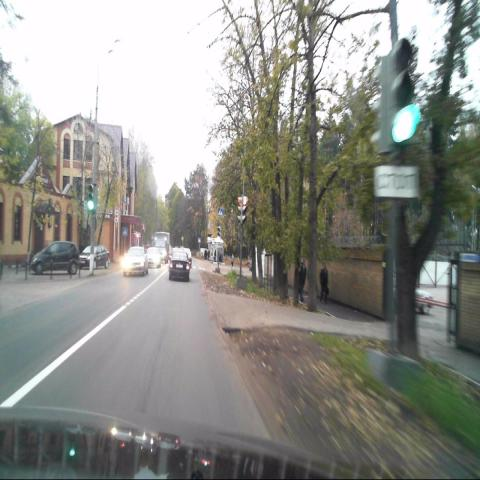6_16: (374, 163, 418, 199)
